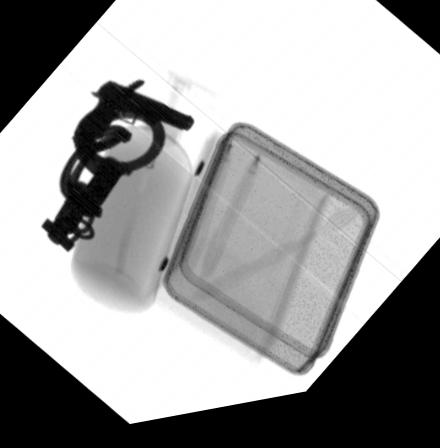Gun: (73, 80, 197, 146)
HandCuffs: (36, 81, 167, 260)
